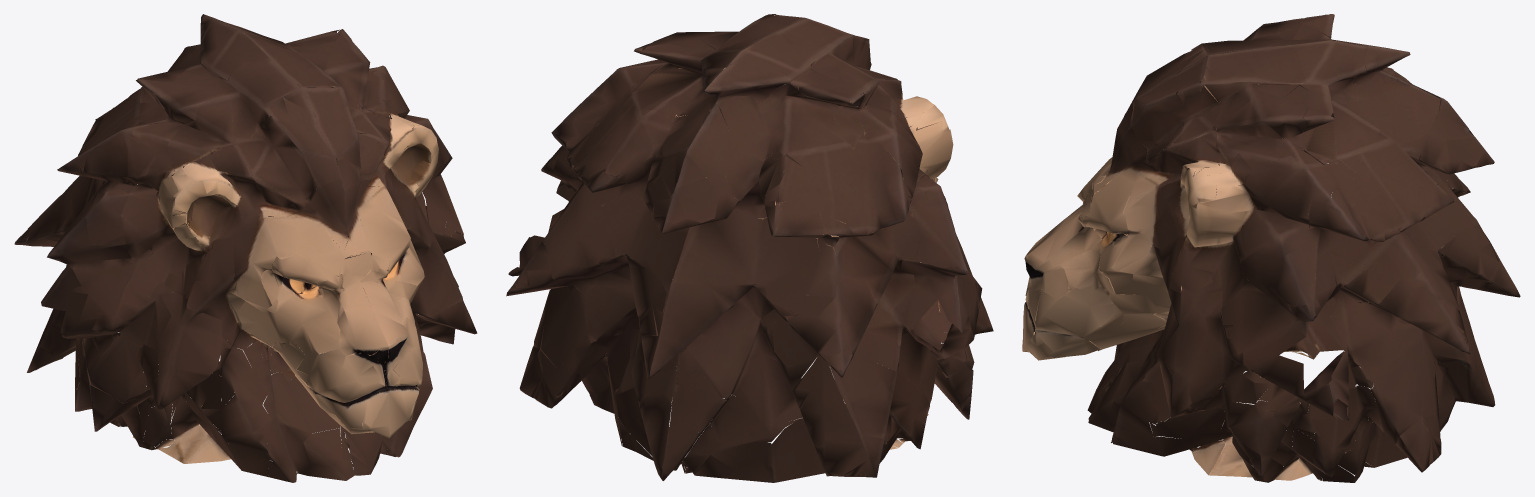
Rendered from cabeca_leao.glb.
The picture shows the model from 3 angles, left to right: view 1: azimuth 30°, elevation 25°; view 2: azimuth 150°, elevation 25°; view 3: azimuth 270°, elevation 25°; orthographic projection. The views are drawn at different scales.
Visible parts, largest first — view 1: cabeca_leao; view 2: cabeca_leao; view 3: cabeca_leao.
Part boxes in pixels (x1,y1,x2,y2): cabeca_leao: [14, 14, 477, 482]; cabeca_leao: [506, 14, 993, 482]; cabeca_leao: [1022, 14, 1520, 482].
Bounding box in the file's own units: 0.4801 × 0.3979 × 0.4771.
1 material, 1 textured.
